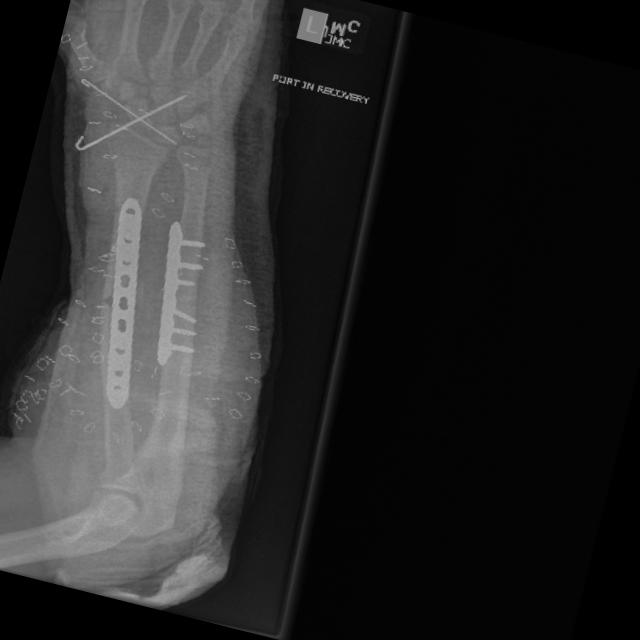forearm fracture: (91, 285, 116, 315)
